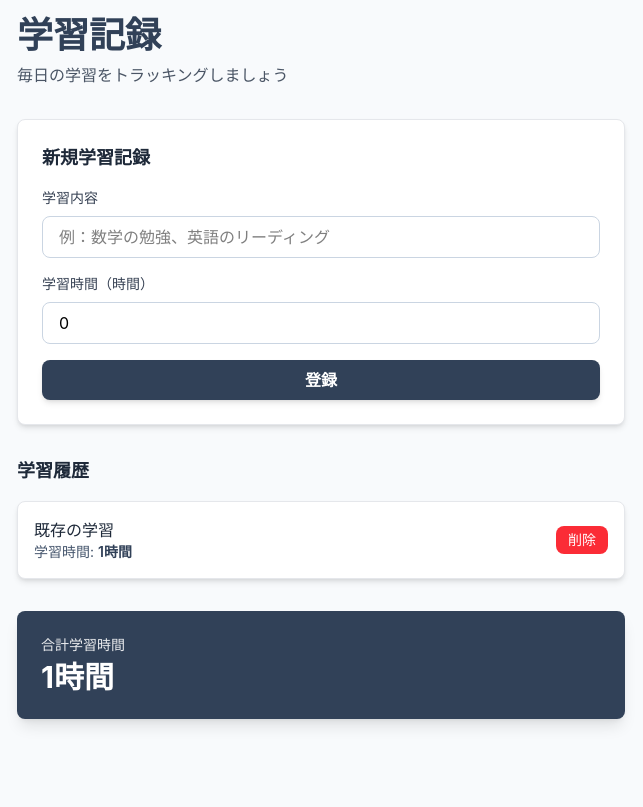
Test: 学習記録アプリのテスト › 未入力で登録を押すとエラーメッセージが表示されること
The image size is (643, 807).
Click the button "登録" at [321, 380], box [42,360,600,400]
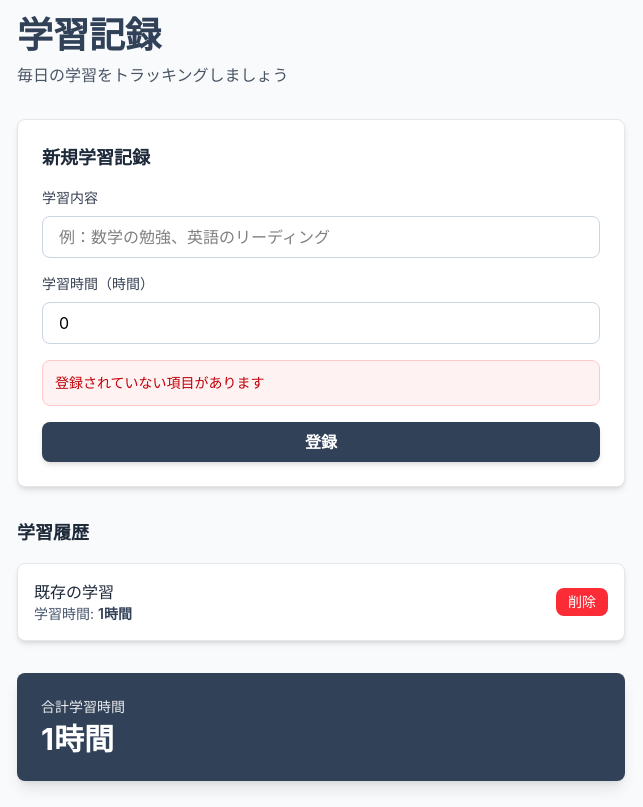
Expected: the text "登録されていない項目があります" is shown, [42,360,600,406]
